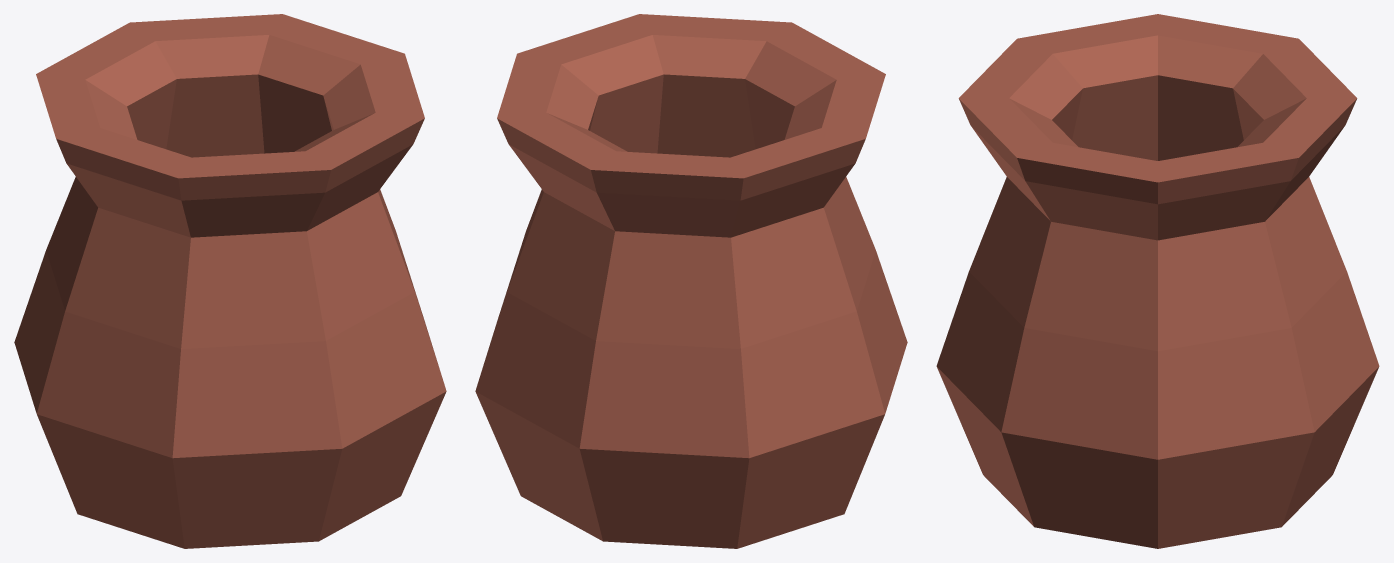
File: Jarron.fbx
The picture shows the model from 3 angles, left to right: view 1: azimuth 30°, elevation 25°; view 2: azimuth 150°, elevation 25°; view 3: azimuth 270°, elevation 25°; orthographic projection.
Parts seen in each view (by area): view 1: Pot; view 2: Pot; view 3: Pot.
Part boxes in pixels (x1,y1,x2,y2): Pot: (14,14,446,548); Pot: (475,14,907,548); Pot: (936,14,1379,548).
Size of the model in its own units: 46.78 by 43.91 by 46.78.
